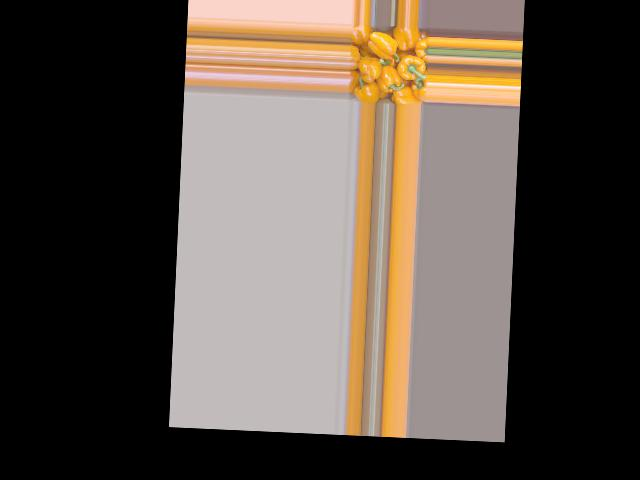bell_pepper: (347, 64, 366, 95)
